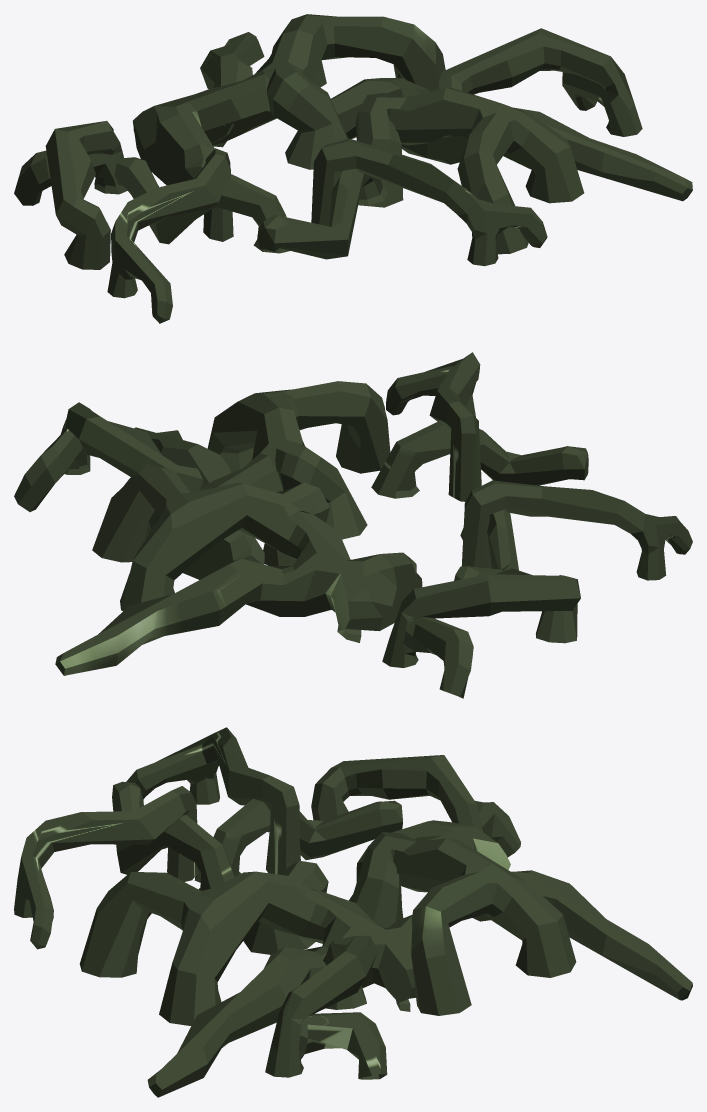
File: EA_Swamp_Root_04b.glb
3 views of the same model, one above another, from view 1: azimuth 30°, elevation 25°; view 2: azimuth 150°, elevation 25°; view 3: azimuth 270°, elevation 25° (orthographic). The views are drawn at different scales.
Parts seen in each view (by area): view 1: EA_Swamp_Root_04b; view 2: EA_Swamp_Root_04b; view 3: EA_Swamp_Root_04b.
Boxes of the visible parts, x1,y1,x2,y2 form: EA_Swamp_Root_04b: [14, 14, 692, 323]; EA_Swamp_Root_04b: [14, 352, 692, 698]; EA_Swamp_Root_04b: [14, 727, 692, 1097].
Bounding box in the file's own units: 2.37 × 0.5635 × 2.36.
1 material, 1 textured.
